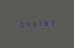eight: (42, 19, 47, 27)
four: (23, 20, 28, 28)
seven: (36, 20, 41, 27)
three: (30, 20, 35, 28), (48, 19, 53, 26)
zero: (17, 21, 22, 28)
